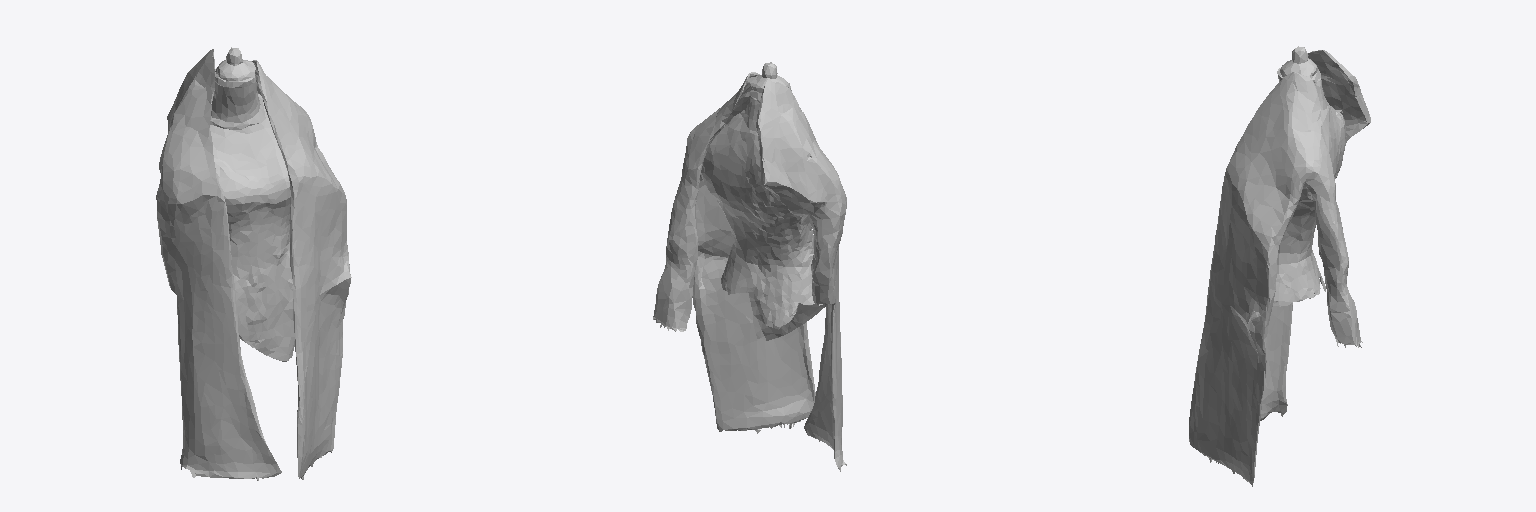
The model's file is Elegant_Purple_Shawl__0701114105_texture.obj.
3 views of the same model, side by side, from view 1: azimuth 30°, elevation 25°; view 2: azimuth 150°, elevation 25°; view 3: azimuth 270°, elevation 25° (orthographic).
Visible parts, largest first — view 1: Elegant_Purple_Shawl__[number redacted]_texture; view 2: Elegant_Purple_Shawl__[number redacted]_texture; view 3: Elegant_Purple_Shawl__[number redacted]_texture.
Boxes of the visible parts, x1=… form: Elegant_Purple_Shawl__[number redacted]_texture: x1=156, y1=47, x2=351, y2=480; Elegant_Purple_Shawl__[number redacted]_texture: x1=653, y1=62, x2=846, y2=471; Elegant_Purple_Shawl__[number redacted]_texture: x1=1189, y1=46, x2=1370, y2=486.
Bounding box in the file's own units: 0.8776 × 1.98 × 0.808.